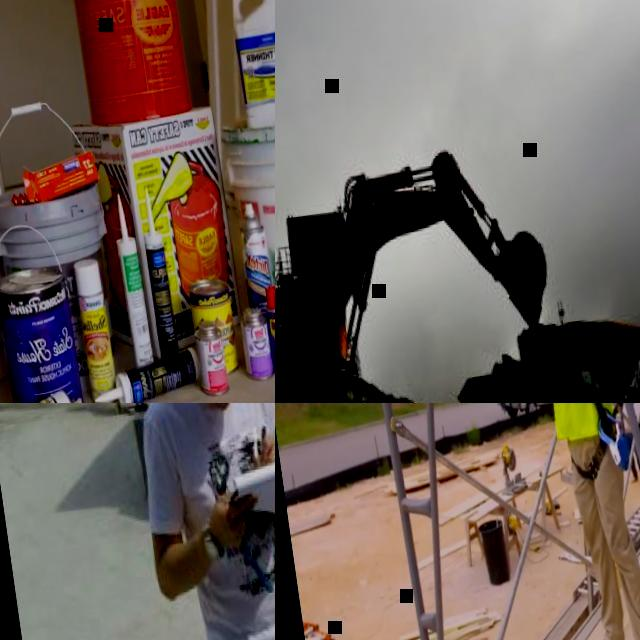machinery: (275, 137, 568, 403), (444, 298, 640, 403)
no_vest: (165, 403, 275, 640)
person: (112, 403, 275, 640), (511, 403, 640, 640)
vehicle: (491, 403, 558, 419)
vest: (533, 403, 617, 443)
